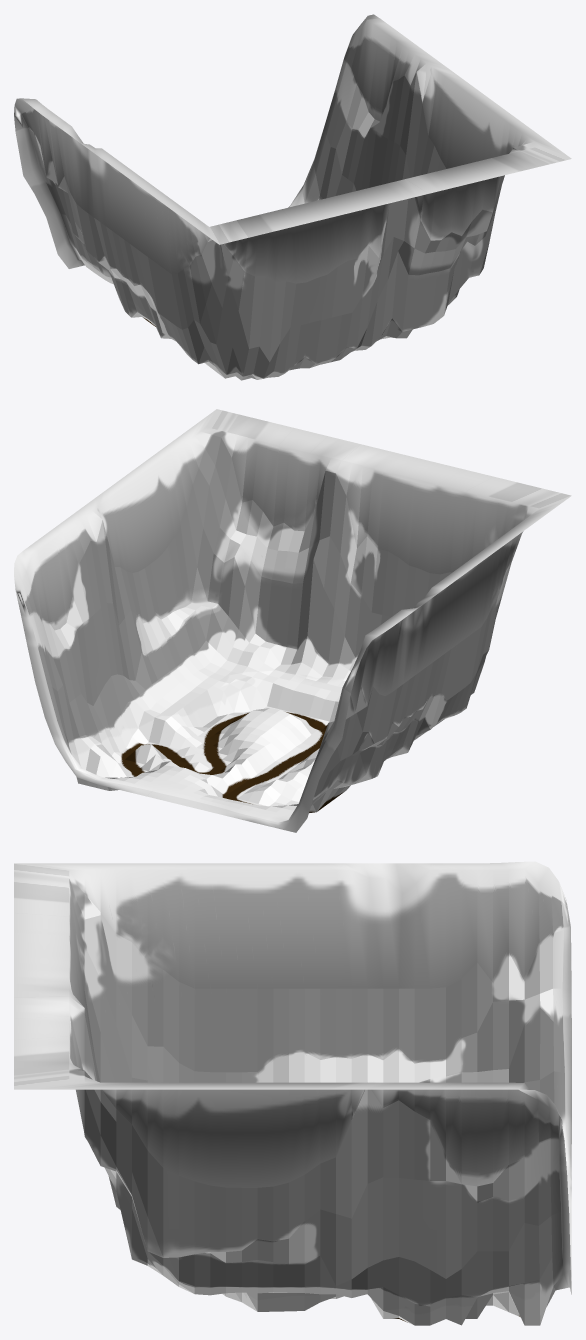
Rendered from map_ice.obj.
3 views of the same model, one above another, from view 1: azimuth 30°, elevation 25°; view 2: azimuth 150°, elevation 25°; view 3: azimuth 270°, elevation 25° (orthographic). The views are drawn at different scales.
Parts seen in each view (by area): view 1: Plane_Plane.003; view 2: Plane_Plane.003; view 3: Plane_Plane.003.
Boxes of the visible parts, left/top/right/bottom form: Plane_Plane.003: left=14, top=14, right=571, bottom=380; Plane_Plane.003: left=14, top=409, right=571, bottom=832; Plane_Plane.003: left=14, top=861, right=571, bottom=1325.
Size of the model in its own units: 213 by 125 by 222.
Materials: 1 (1 with a texture image).
